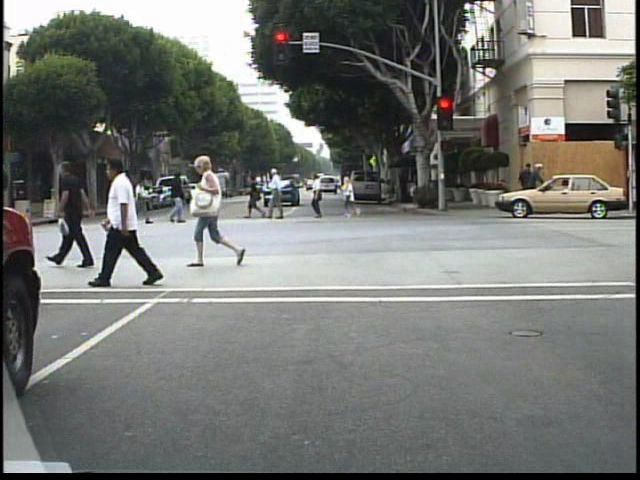person: (96, 147, 172, 294), (191, 153, 249, 269), (52, 158, 108, 276), (267, 166, 293, 223), (309, 170, 333, 223), (243, 171, 266, 222), (131, 174, 152, 226), (526, 160, 545, 213), (4, 186, 24, 236), (166, 170, 185, 222), (517, 160, 537, 207), (13, 196, 33, 238)
